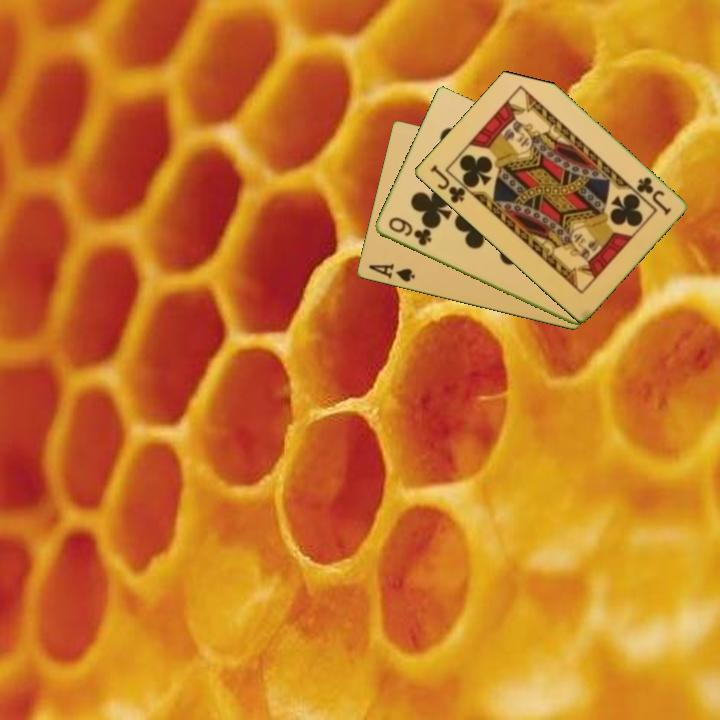9c: (384, 213, 434, 249)
As: (365, 260, 417, 285)
Jc: (426, 161, 468, 206), (632, 173, 674, 218)
